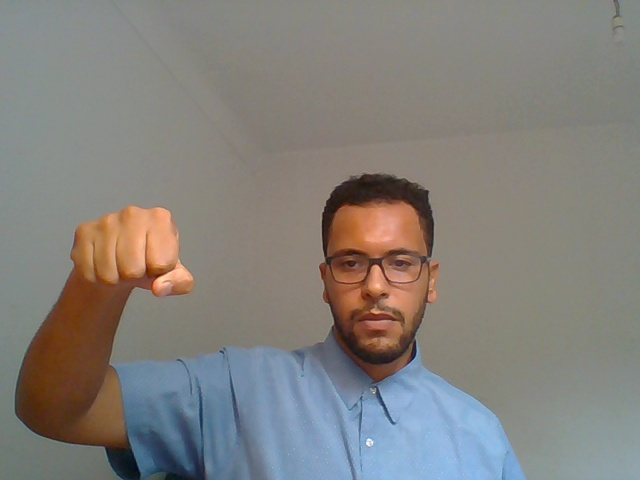yes: (21, 176, 207, 329)
